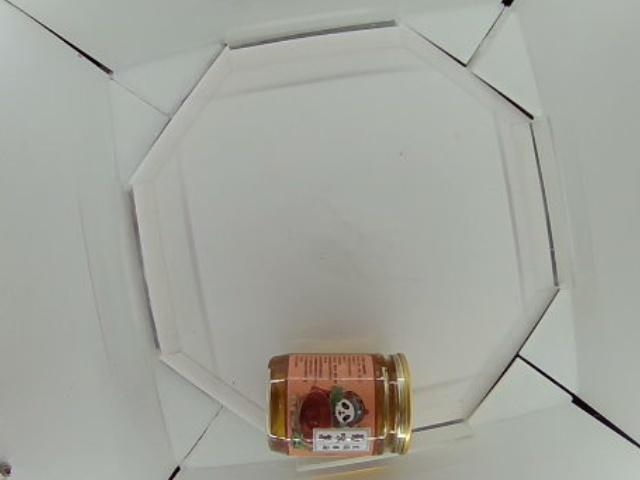Bottle: (267, 350, 413, 458)
